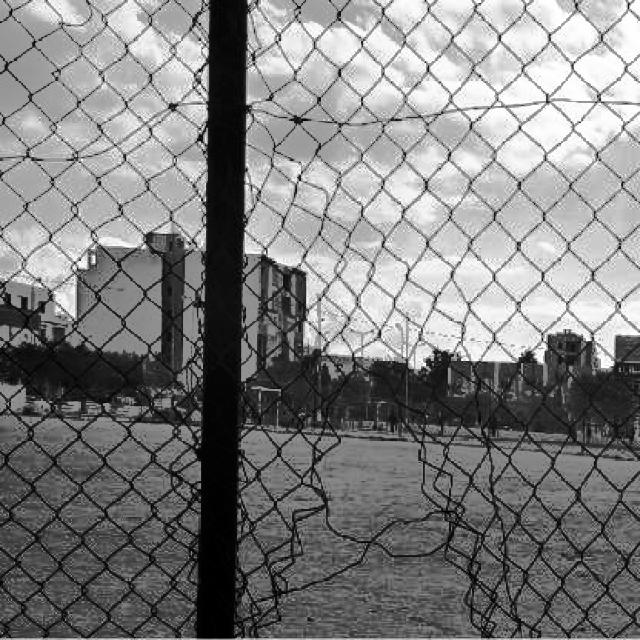anomaly-fence: (251, 347, 511, 640)
